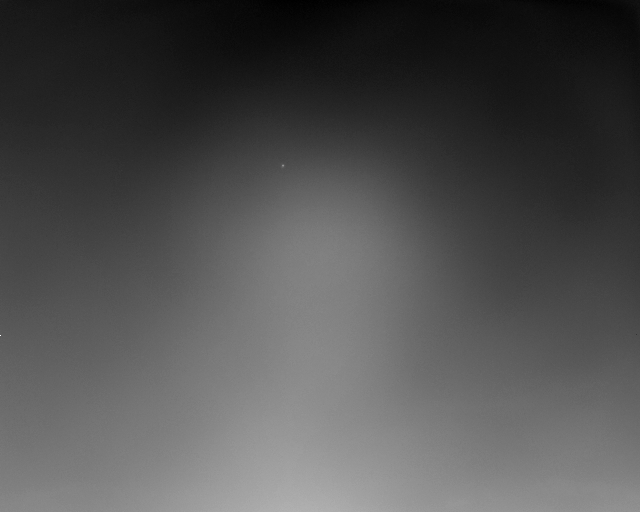Target: (282, 165, 287, 169)
